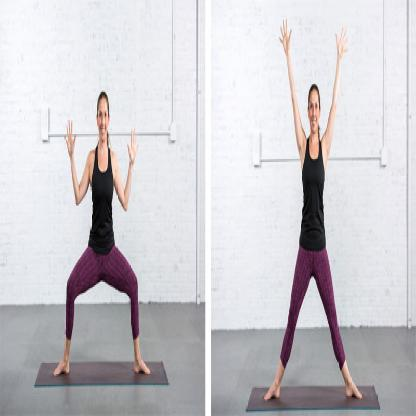godness: (49, 80, 156, 378)
